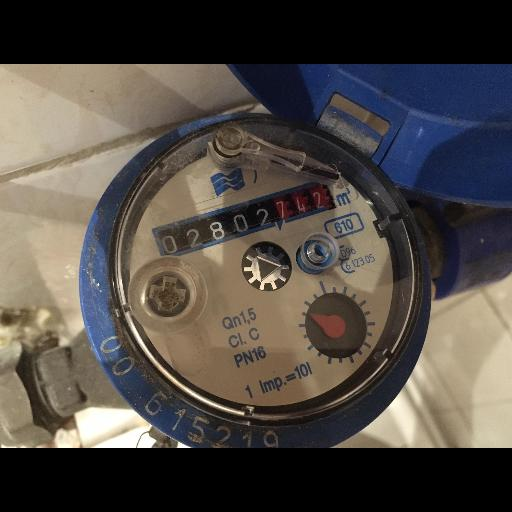0: (228, 205, 253, 236), (158, 227, 181, 257)
2: (250, 199, 275, 229), (181, 220, 205, 251), (308, 183, 331, 212)
4: (290, 189, 311, 216)
7: (272, 192, 295, 222)
8: (205, 213, 228, 243)
border_water_meter_number: (152, 177, 338, 265)
